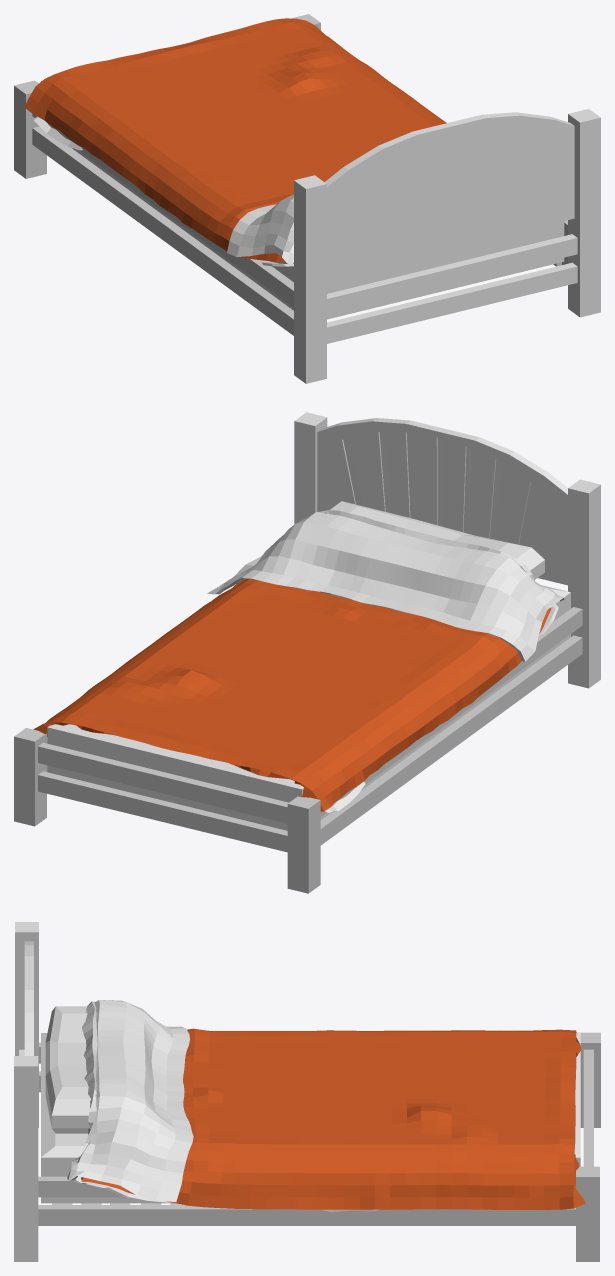
File: bed-covers.fbx
3 renders of one model, top to bottom at view 1: azimuth 30°, elevation 25°; view 2: azimuth 150°, elevation 25°; view 3: azimuth 270°, elevation 25°, orthographic.
Visible parts, largest first — view 1: bed, Plane.002, side-left, mattress, Plane, foot; view 2: Plane.002, bed, Plane, foot, mattress, side-left, pillow; view 3: Plane.002, Plane, side-right, bed, pillow, foot, mattress.
Boxes of the visible parts, x1,y1,x2,y2 form: bed: [294, 109, 600, 383]; Plane.002: [24, 18, 446, 261]; side-left: [32, 114, 293, 335]; mattress: [41, 81, 564, 319]; Plane: [33, 116, 293, 266]; foot: [14, 14, 320, 178]; Plane.002: [33, 578, 551, 811]; bed: [294, 412, 600, 688]; Plane: [47, 510, 564, 812]; foot: [14, 728, 320, 893]; mattress: [47, 585, 570, 830]; side-left: [320, 607, 582, 845]; pillow: [329, 501, 544, 579]; Plane.002: [81, 1028, 585, 1209]; Plane: [67, 1000, 380, 1212]; side-right: [38, 1176, 575, 1225]; bed: [14, 922, 38, 1261]; pillow: [45, 1006, 90, 1133]; foot: [576, 1032, 600, 1261]; mattress: [41, 1033, 580, 1203].
Size of the model in its own units: 694 by 456 by 1114.
